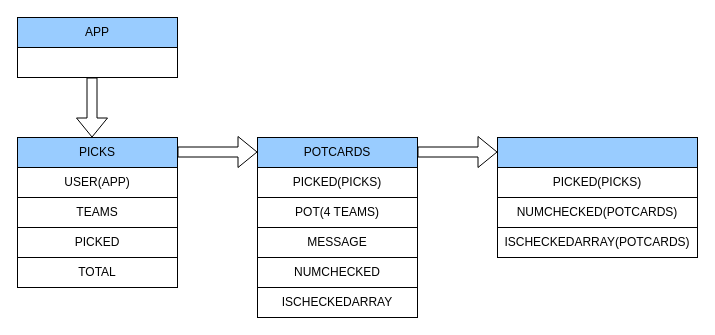
The diagram is 715 pixels wide and 335 high, and some of its shapes have lost their labels. The centre of each missing label's shape, as x and y in pixels:
"TEAMCARDS" belongs at [597,152].
"USER" belongs at [97,62].
